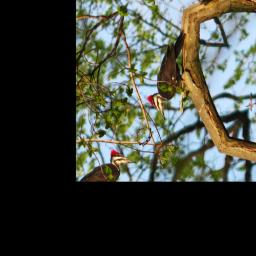Woodpecker: (132, 26, 214, 124)
